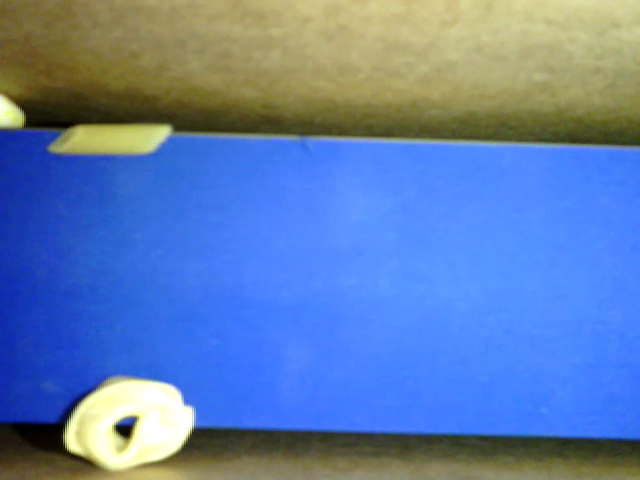penne: (47, 124, 173, 156)
tortellini: (59, 374, 196, 468)
